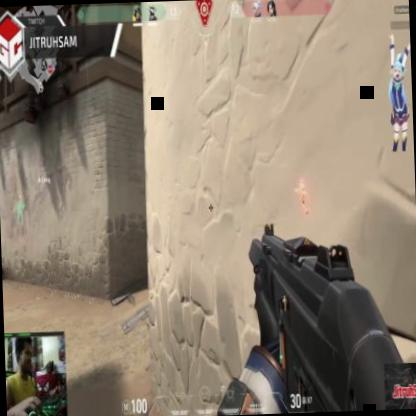enemy: (295, 176, 309, 213)
enemy_head: (298, 178, 302, 186)
